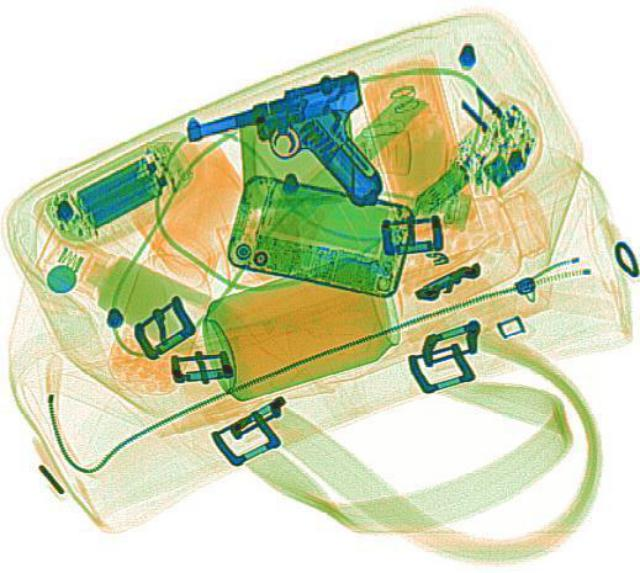Gun: (176, 67, 404, 243)
